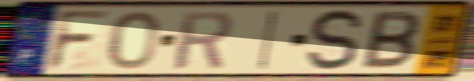B: (358, 9, 423, 72)
F: (44, 8, 114, 73)
I: (255, 8, 282, 73)
O: (107, 9, 161, 72)
R: (171, 9, 235, 71)
S: (305, 7, 367, 74)
